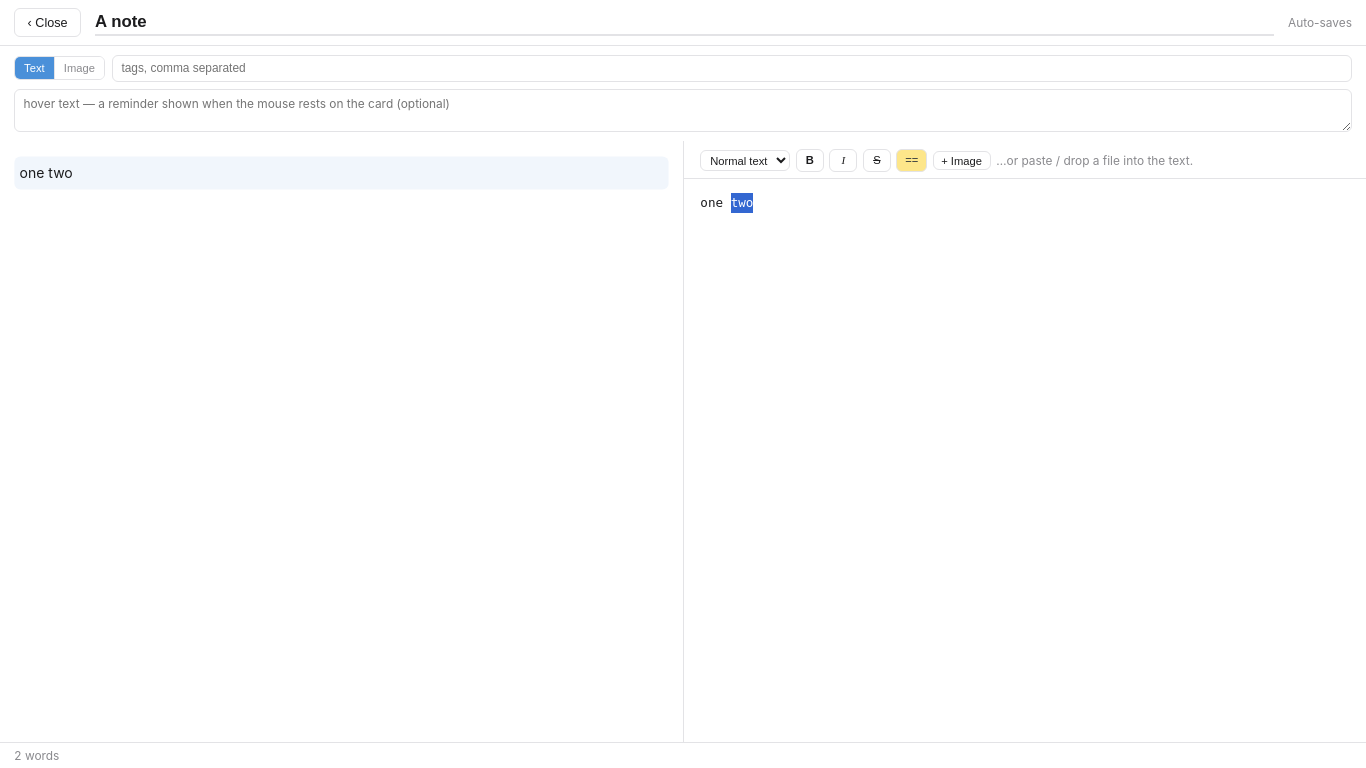
formatting toolbar › offers highlight rather than underline, which Markdown has no syntax for
Expected: the text box with placeholder "Write in Markdown…" holds "one two", [684,179,1365,742]
Click the button named "Highlight": click(912, 161) [896,149,927,172]
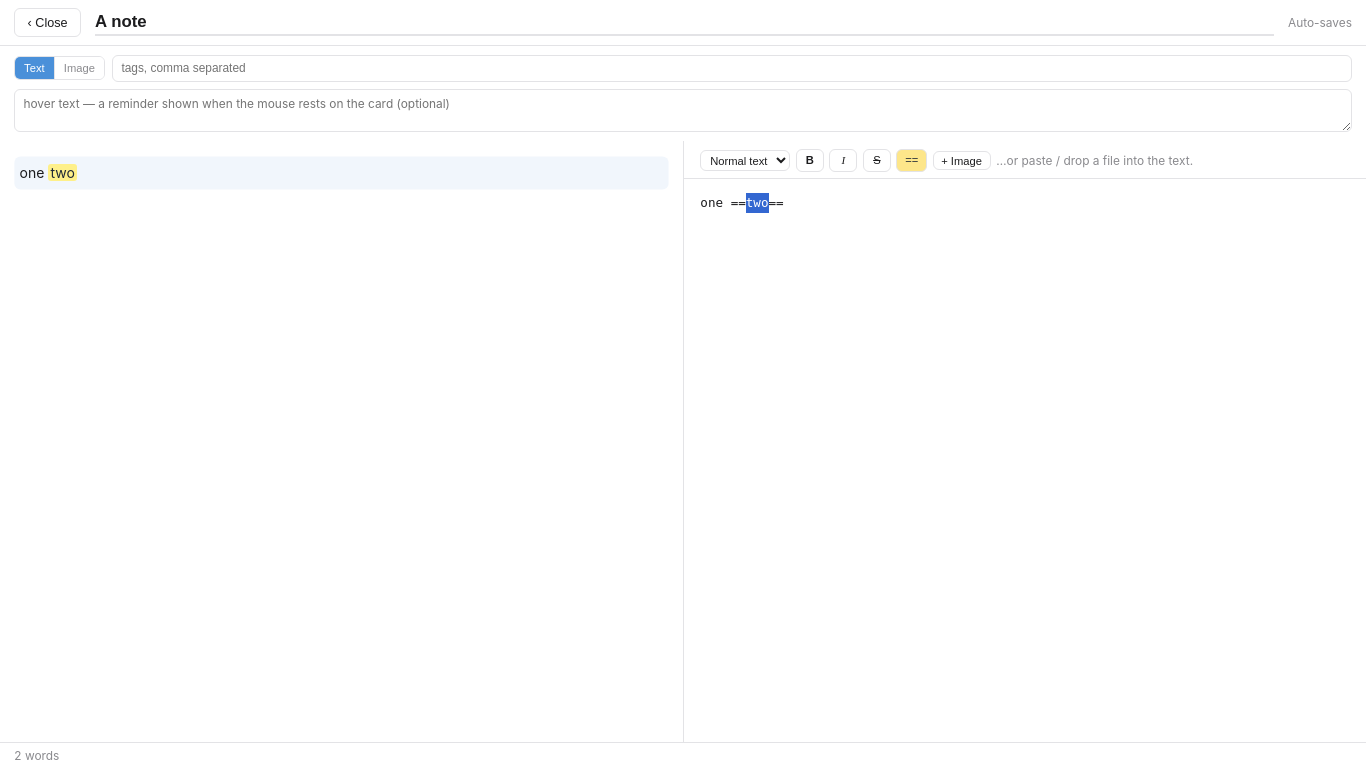
Expected: the text box with placeholder "Write in Markdown…" holds "one ==two==", [684,179,1365,742]
